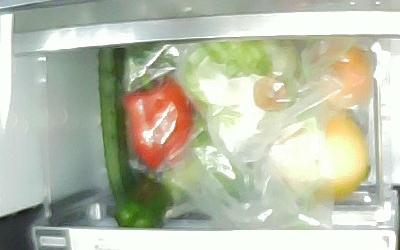broccoli_vinyl: (160, 131, 240, 200)
cucumber: (97, 47, 135, 203)
grapefruit_vinyl: (279, 115, 368, 202)
lettuce_vinyl: (179, 40, 297, 154)
paprika: (115, 174, 169, 228)
paprika_vinyl: (123, 72, 194, 168)
peach_vinyl: (324, 44, 371, 109)
